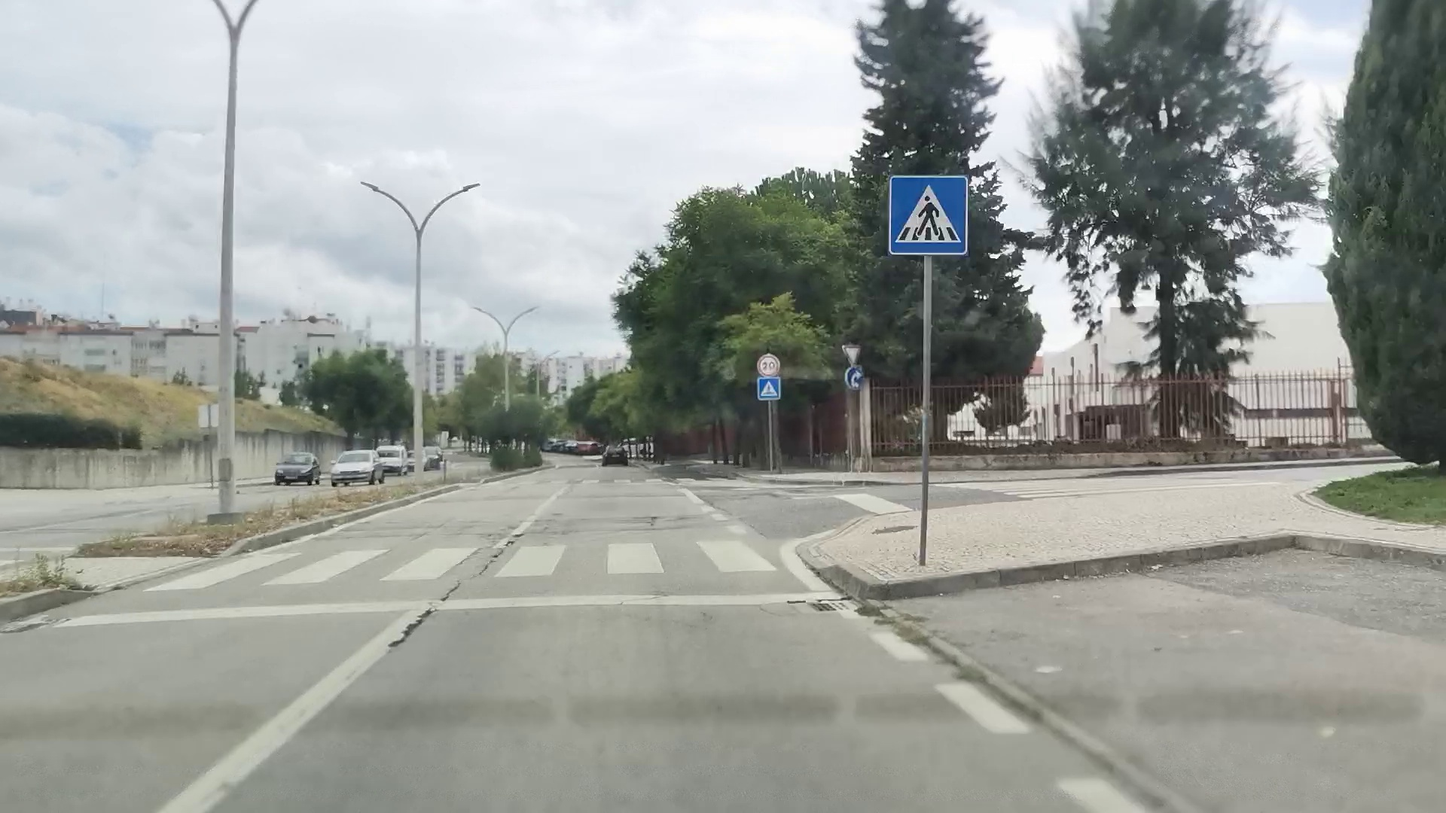Stairs: (147, 539, 786, 596)
